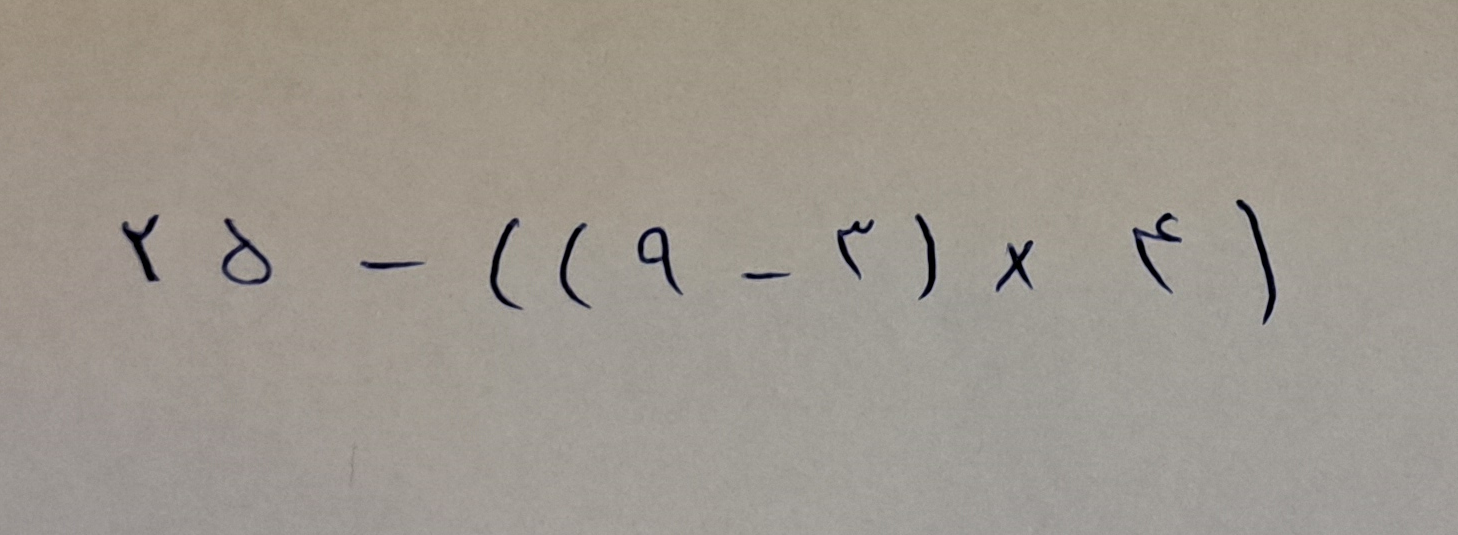character: (1234, 198, 1277, 322), (1132, 213, 1179, 294), (636, 226, 684, 298), (224, 220, 273, 288), (561, 223, 597, 310), (489, 220, 520, 318), (118, 217, 159, 284), (835, 218, 877, 279), (914, 217, 938, 301), (997, 241, 1036, 291), (361, 259, 428, 271), (741, 269, 788, 282)
